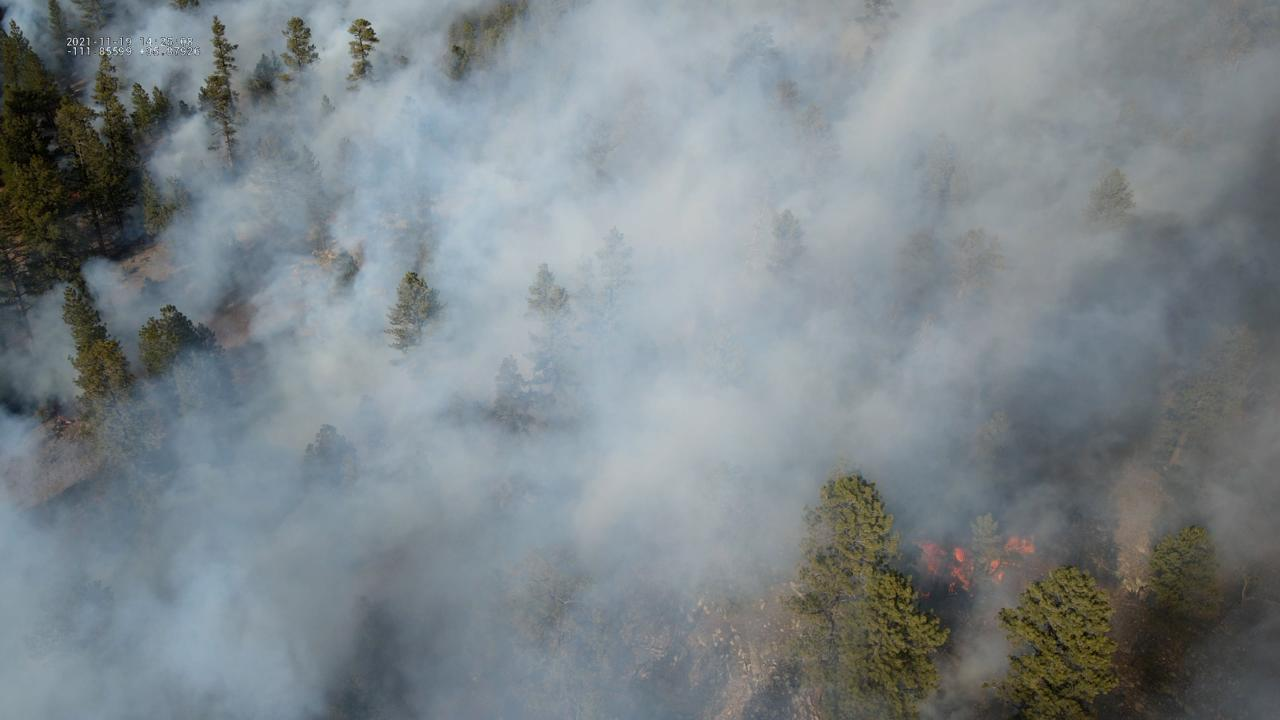fire: (909, 537, 975, 596), (986, 533, 1037, 588)
smoke: (0, 0, 1280, 720)
